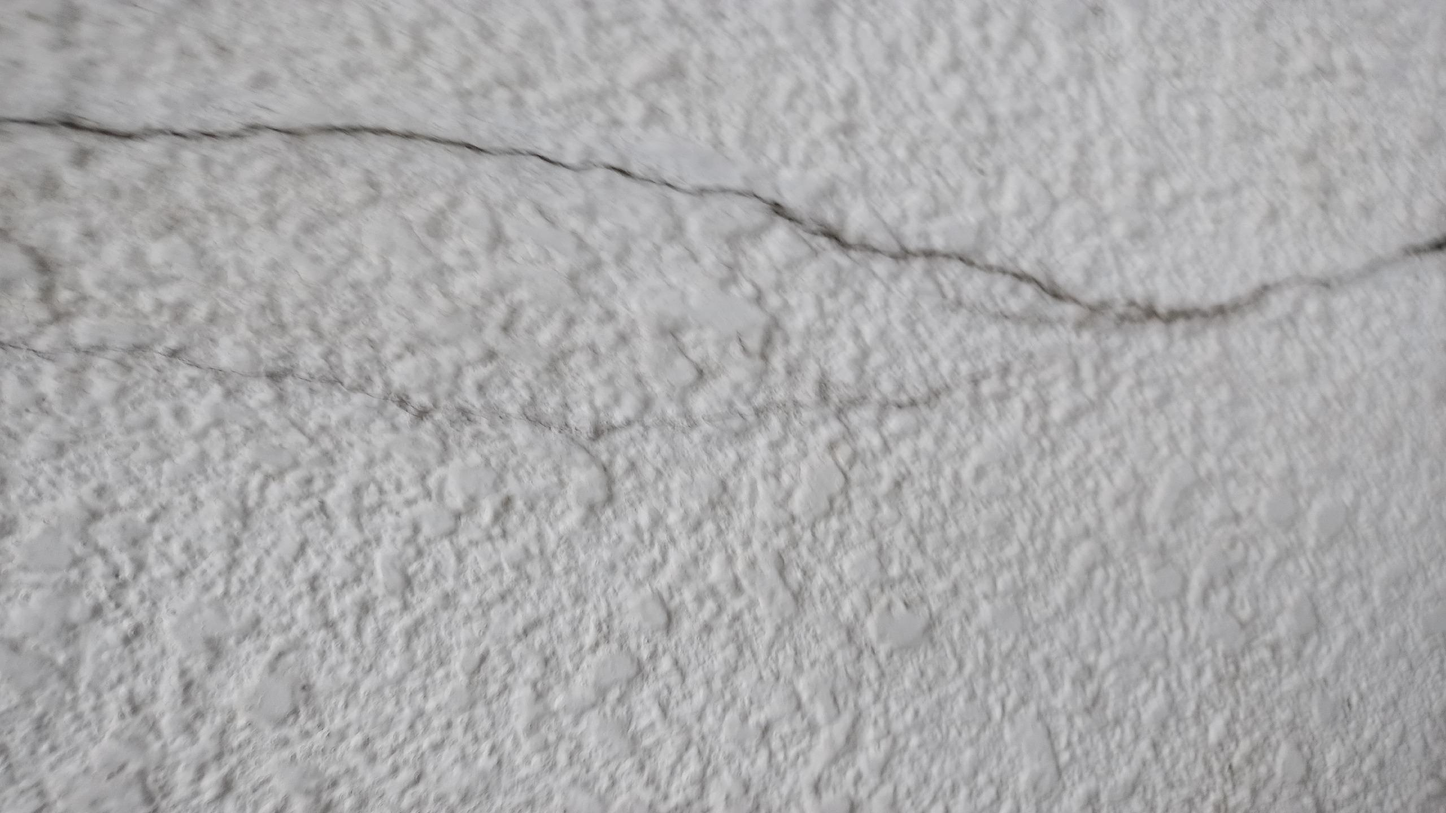crack: (6, 105, 1264, 331)
